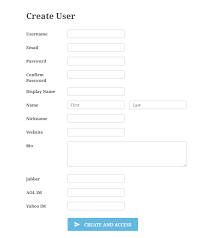Button: (65, 217, 142, 233)
TextBox: (66, 140, 191, 170), (67, 42, 128, 54), (66, 69, 128, 80), (66, 28, 126, 39), (68, 113, 127, 123)
